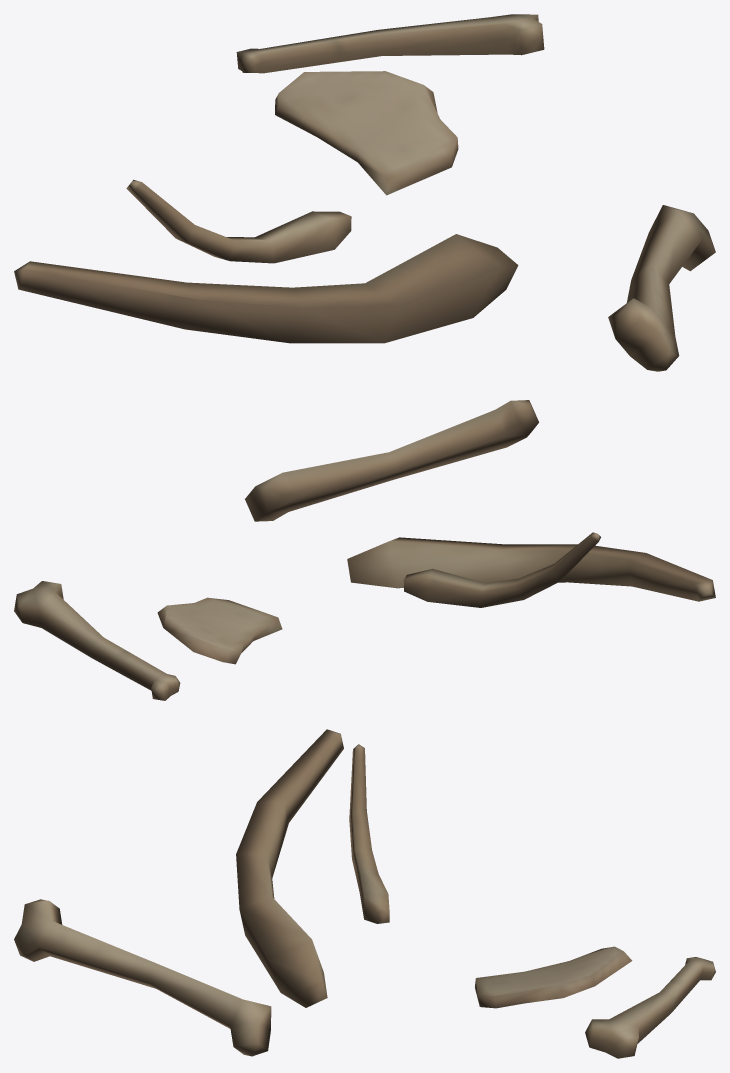
Rendered from Bones_02.fbx.
3 renders of one model, top to bottom at view 1: azimuth 30°, elevation 25°; view 2: azimuth 150°, elevation 25°; view 3: azimuth 270°, elevation 25°, orthographic. The views are drawn at different scales.
Parts seen in each view (by area): view 1: Bones_02; view 2: Bones_02; view 3: Bones_02.
Boxes of the visible parts, x1,y1,x2,y2 form: Bones_02: [14, 14, 715, 371]; Bones_02: [14, 400, 715, 700]; Bones_02: [14, 729, 715, 1058].
Size of the model in its own units: 172 by 40.13 by 188.
Materials: 1 (1 with a texture image).
